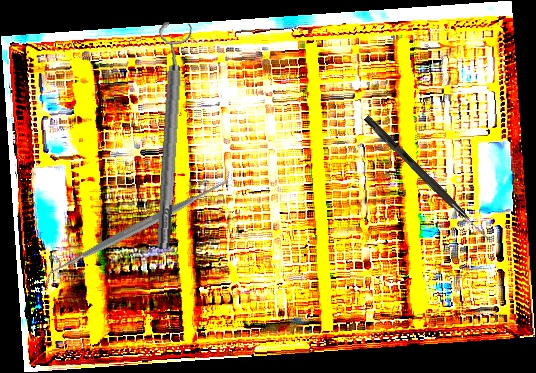Fixation Ring: (143, 20, 196, 251)
Hook Surgical: (362, 115, 493, 242)
Spatula Surgical: (36, 169, 239, 288)
